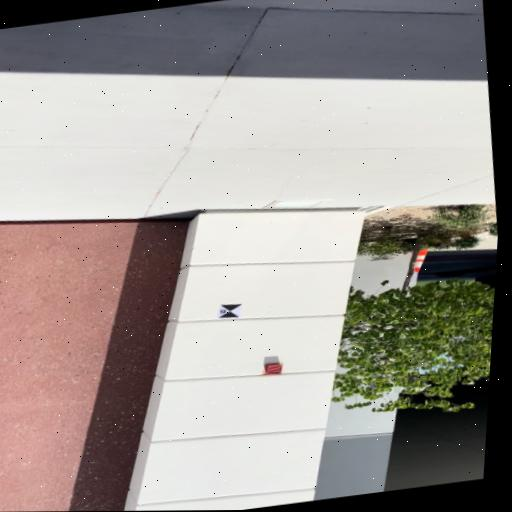target6: (216, 304, 243, 318)
